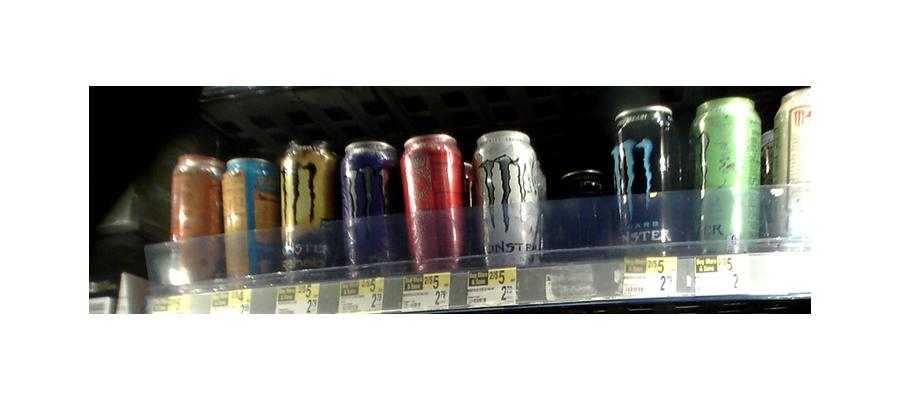bottle: (695, 95, 765, 257), (613, 102, 684, 252), (474, 131, 544, 271), (403, 133, 470, 275), (342, 142, 400, 276), (166, 150, 221, 290), (220, 155, 279, 282), (281, 142, 335, 276), (775, 89, 815, 251), (555, 157, 612, 256)
